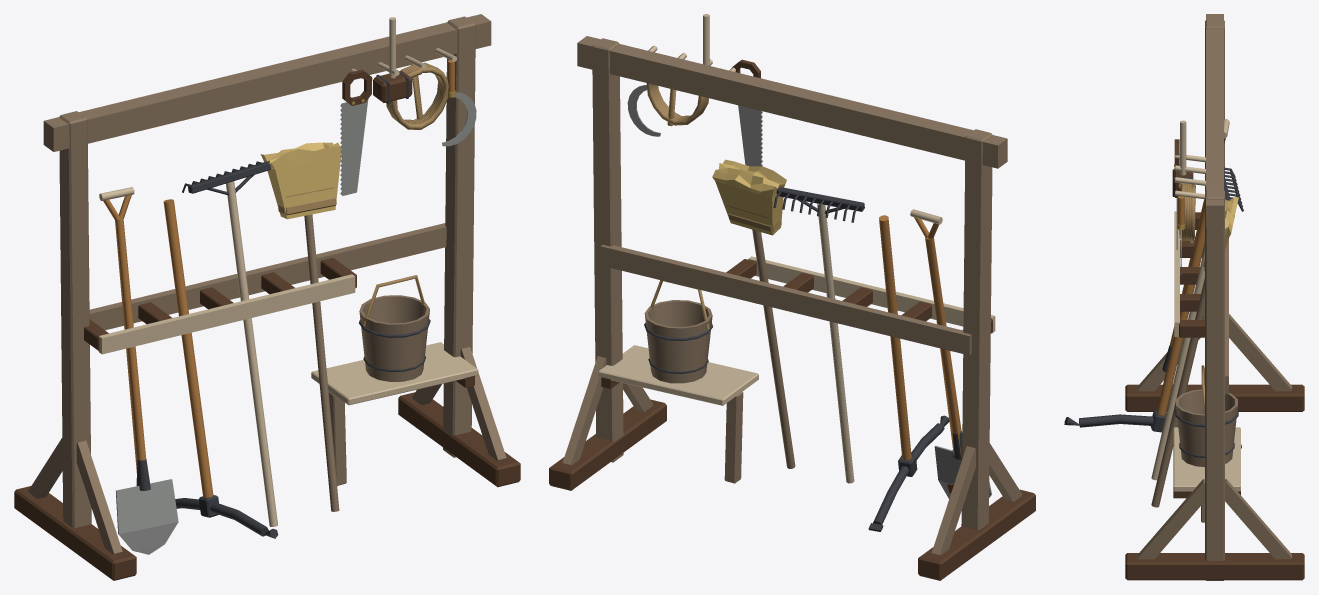
File: deco_tool_rack_wood.fbx
3 renders of one model, left to right at view 1: azimuth 30°, elevation 25°; view 2: azimuth 150°, elevation 25°; view 3: azimuth 270°, elevation 25°, orthographic. The views are drawn at different scales.
Visible parts, largest first — view 1: ToolRack_Wood_Frame, ToolRack_Wood_Broom, ToolRack_Wood_Shovel, ToolRack_Wood_Bucket, ToolRack_Wood_HandTools, ToolRack_Wood_Pick, ToolRack_Wood_Rake, ToolRack_Wood_RopeCoil; view 2: ToolRack_Wood_Frame, ToolRack_Wood_Broom, ToolRack_Wood_Bucket, ToolRack_Wood_Pick, ToolRack_Wood_Rake, ToolRack_Wood_Shovel, ToolRack_Wood_HandTools, ToolRack_Wood_RopeCoil; view 3: ToolRack_Wood_Frame, ToolRack_Wood_Bucket, ToolRack_Wood_Pick, ToolRack_Wood_Broom, ToolRack_Wood_Rake, ToolRack_Wood_HandTools, ToolRack_Wood_RopeCoil, ToolRack_Wood_Pegs, ToolRack_Wood_Shovel.
Boxes of the visible parts, <box> form: ToolRack_Wood_Frame: <box>14,14,520,580</box>; ToolRack_Wood_Broom: <box>260,142,341,511</box>; ToolRack_Wood_Shovel: <box>99,187,178,554</box>; ToolRack_Wood_Bucket: <box>359,275,430,381</box>; ToolRack_Wood_HandTools: <box>340,17,476,195</box>; ToolRack_Wood_Pick: <box>163,199,278,538</box>; ToolRack_Wood_Rake: <box>182,161,277,526</box>; ToolRack_Wood_RopeCoil: <box>386,62,448,129</box>; ToolRack_Wood_Frame: <box>549,36,1035,580</box>; ToolRack_Wood_Broom: <box>712,159,795,468</box>; ToolRack_Wood_Bucket: <box>644,280,712,383</box>; ToolRack_Wood_Pick: <box>868,215,949,531</box>; ToolRack_Wood_Rake: <box>773,187,864,483</box>; ToolRack_Wood_Shovel: <box>910,209,991,498</box>; ToolRack_Wood_HandTools: <box>627,14,762,166</box>; ToolRack_Wood_RopeCoil: <box>646,83,708,126</box>; ToolRack_Wood_Frame: <box>1125,14,1304,580</box>; ToolRack_Wood_Bucket: <box>1175,365,1238,467</box>; ToolRack_Wood_Pick: <box>1064,202,1241,448</box>; ToolRack_Wood_Broom: <box>1151,197,1238,507</box>; ToolRack_Wood_Rake: <box>1151,167,1243,480</box>; ToolRack_Wood_HandTools: <box>1172,120,1193,275</box>; ToolRack_Wood_RopeCoil: <box>1178,182,1195,243</box>; ToolRack_Wood_Pegs: <box>1174,154,1205,199</box>; ToolRack_Wood_Shovel: <box>1162,119,1229,371</box>.
Size of the model in its own units: 228 by 233 by 121.
